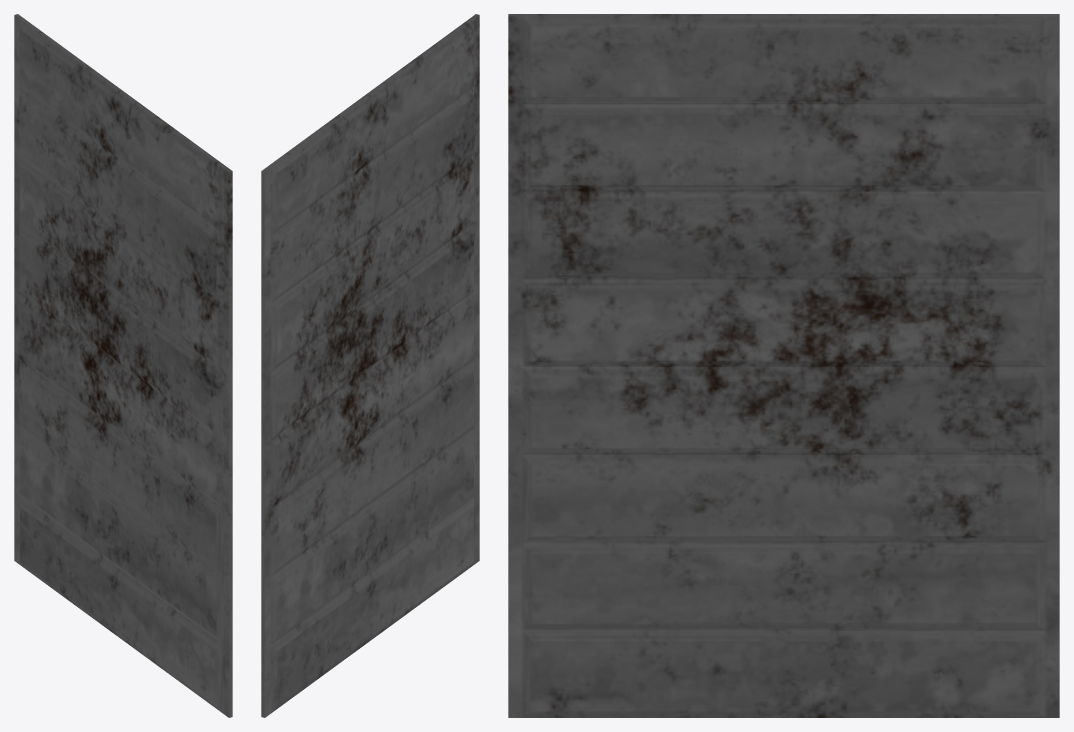
File: mechanical_door-door.glb
3 views of the same model, side by side, from view 1: azimuth 30°, elevation 25°; view 2: azimuth 150°, elevation 25°; view 3: azimuth 270°, elevation 25° (orthographic). The views are drawn at different scales.
Visible parts, largest first — view 1: mechanical_door-door_Baked; view 2: mechanical_door-door_Baked; view 3: mechanical_door-door_Baked.
Part boxes in pixels (<box>): mechanical_door-door_Baked: <box>14,14,232,717</box>; mechanical_door-door_Baked: <box>261,14,479,717</box>; mechanical_door-door_Baked: <box>508,14,1059,717</box>.
Bounding box in the file's own units: 0.06 × 2.9 × 2.07.
Materials: 1 (1 with a texture image).
